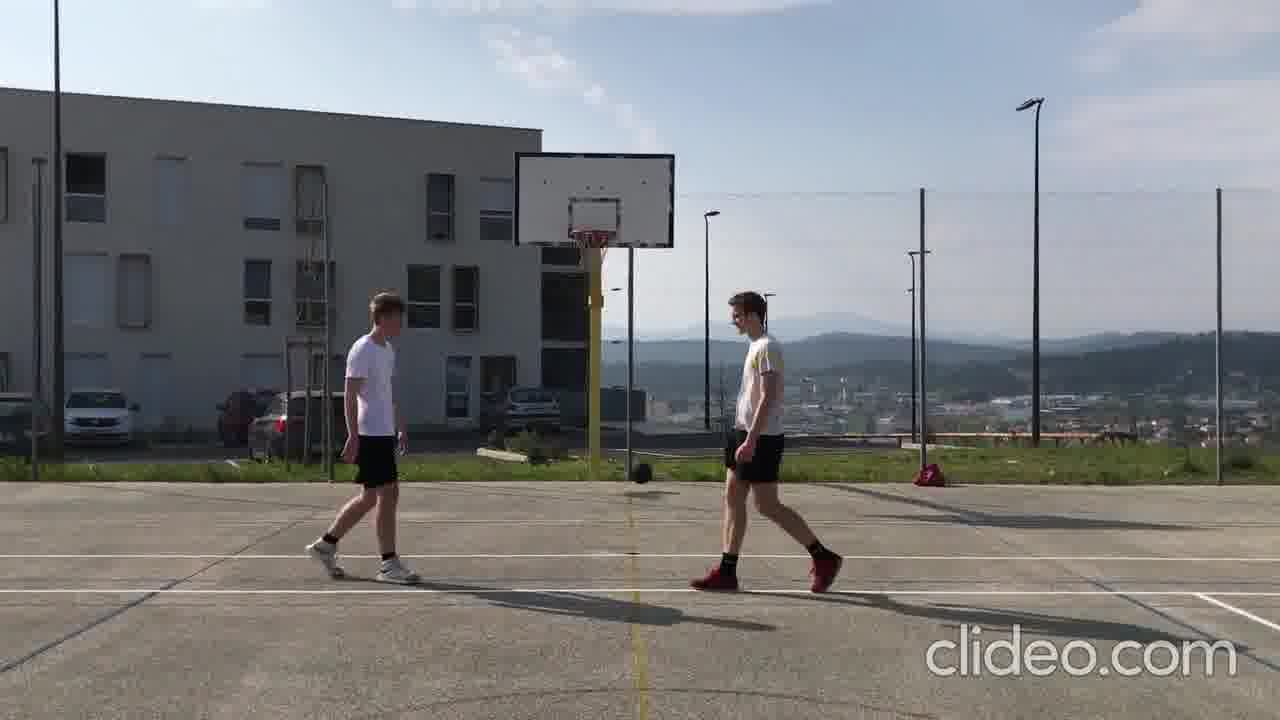jugador: (677, 282, 855, 608)
